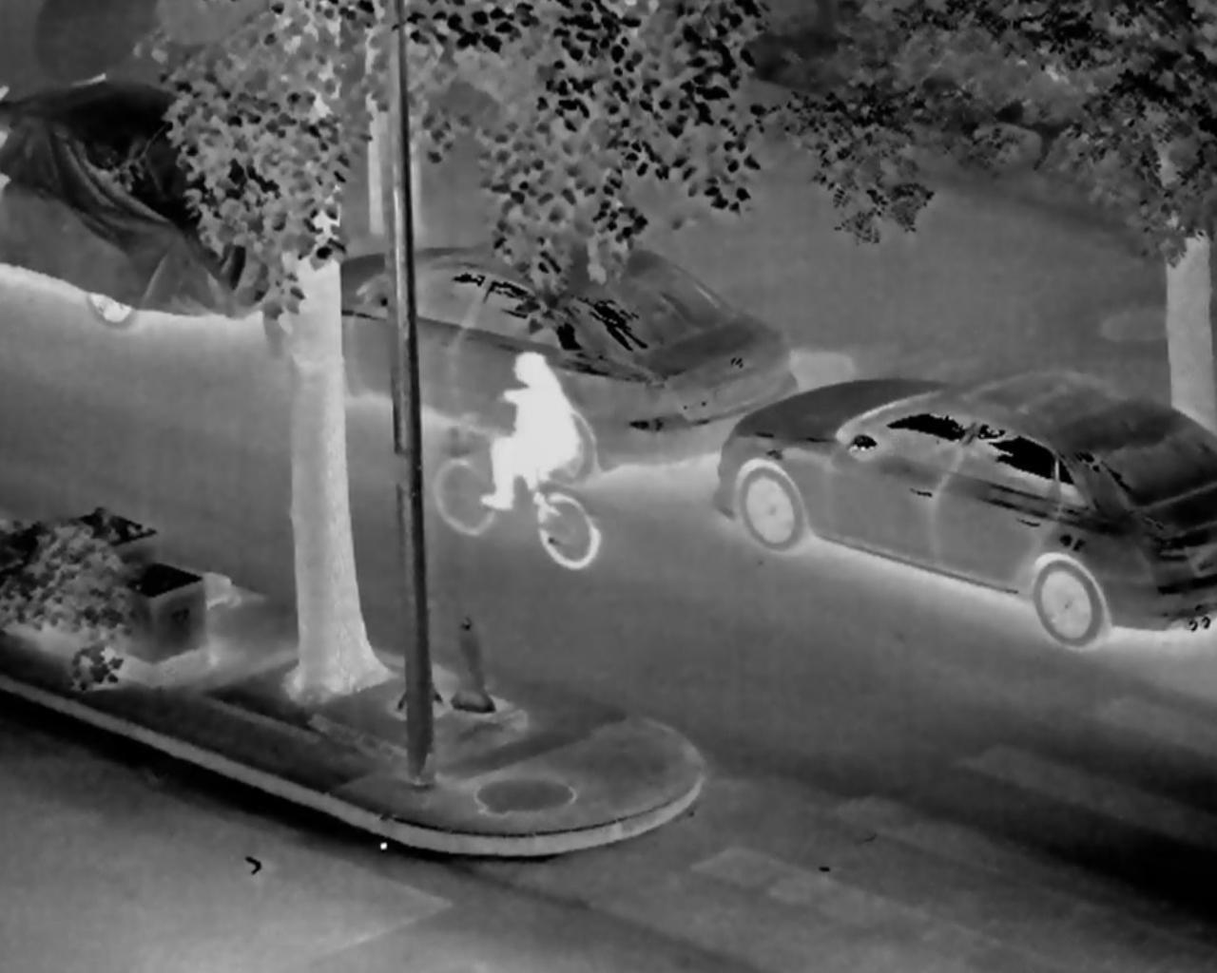person: (473, 338, 598, 533)
